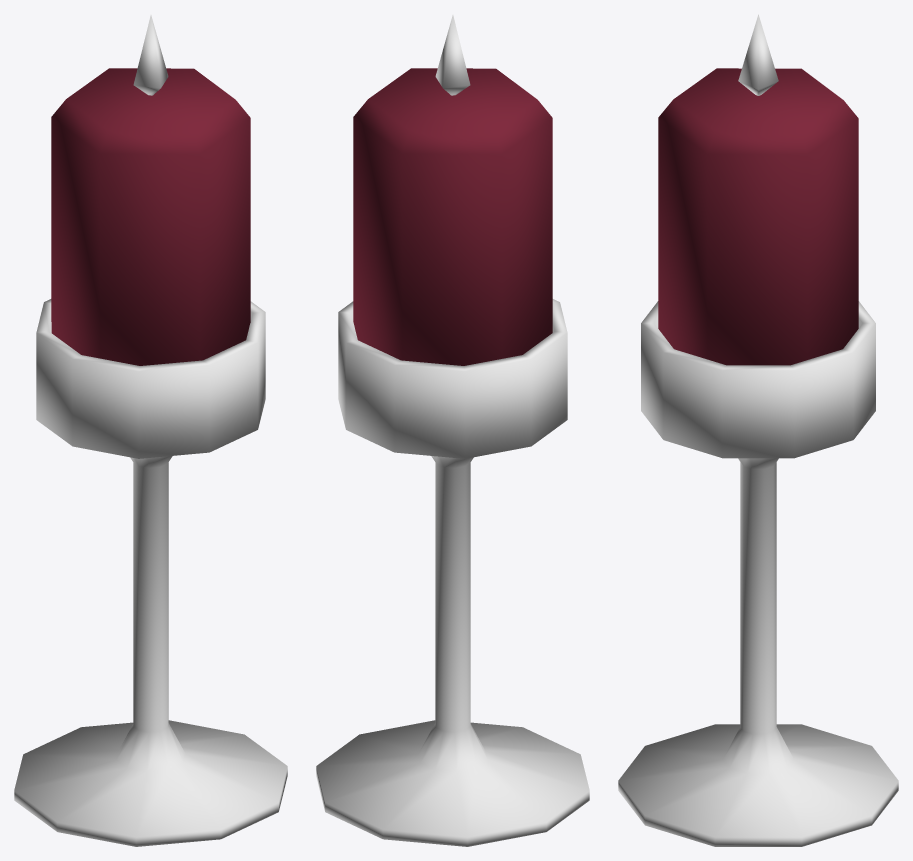
Rendered from candleBigLow.fbx.
The picture shows the model from 3 angles, left to right: view 1: azimuth 30°, elevation 25°; view 2: azimuth 150°, elevation 25°; view 3: azimuth 270°, elevation 25°; orthographic projection.
Visible parts, largest first — view 1: candleBigLow; view 2: candleBigLow; view 3: candleBigLow.
Part boxes in pixels (<box>): candleBigLow: <box>14,15,287,846</box>; candleBigLow: <box>316,15,589,846</box>; candleBigLow: <box>618,14,898,846</box>.
Bounding box in the file's own units: 0.1308 × 0.4199 × 0.1375.
